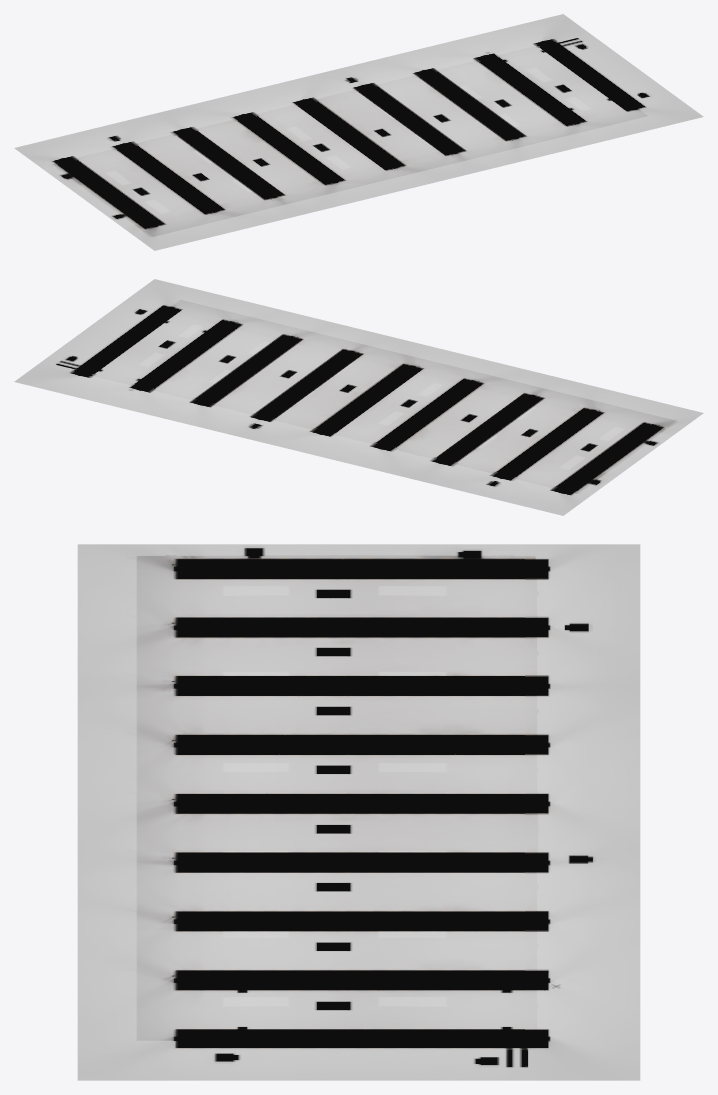
Rendered from Terrain.fbx.
3 renders of one model, top to bottom at view 1: azimuth 30°, elevation 25°; view 2: azimuth 150°, elevation 25°; view 3: azimuth 270°, elevation 25°, orthographic. The views are drawn at different scales.
Visible parts, largest first — view 1: Terrain; view 2: Terrain; view 3: Terrain.
Boxes of the visible parts, x1=… form: Terrain: x1=14, y1=14, x2=703, y2=250; Terrain: x1=14, y1=279, x2=703, y2=515; Terrain: x1=77, y1=544, x2=640, y2=1080.
Size of what is drawn, in the model's own units: 5470 by 0 by 2426.
1 material, 1 textured.
